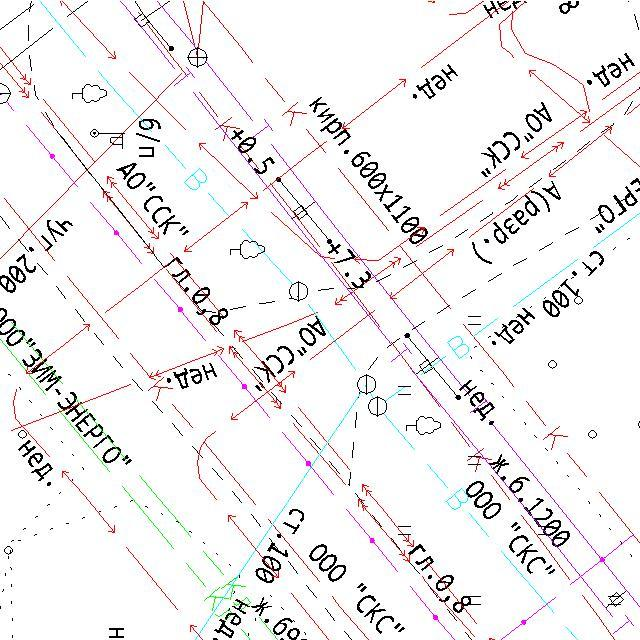tree: (227, 238, 267, 262), (404, 414, 442, 437), (70, 82, 108, 104)
well: (366, 394, 390, 420), (185, 46, 210, 69), (287, 279, 310, 304), (355, 372, 378, 396)
